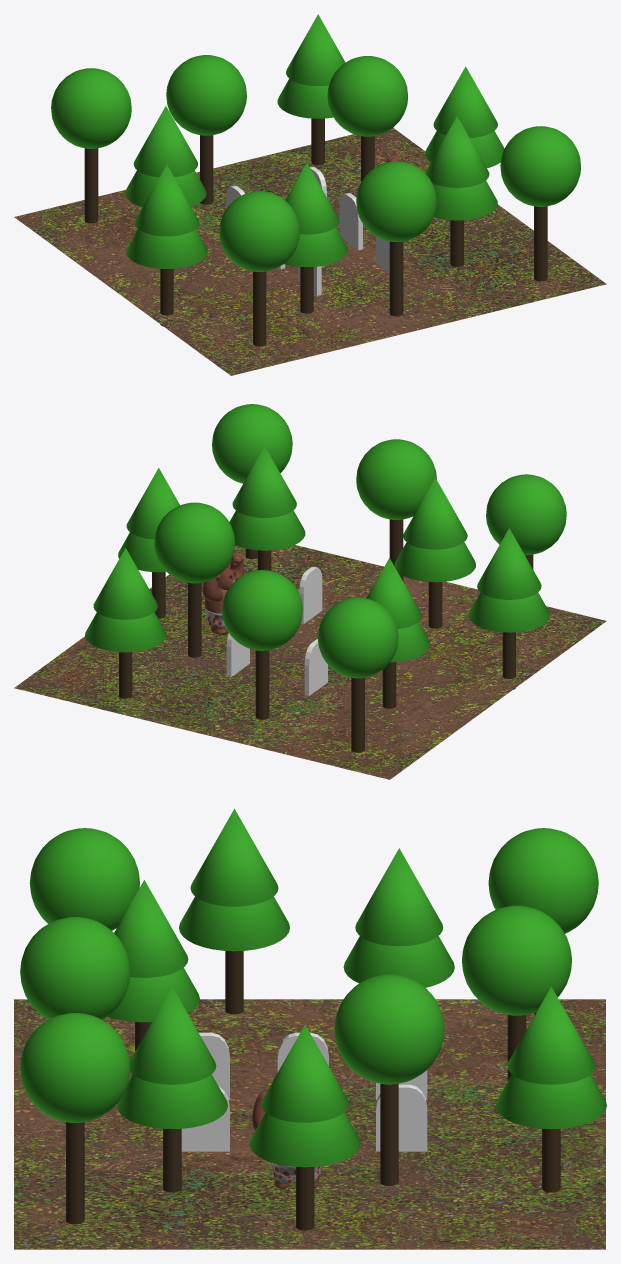
3 views of the same model, one above another, from view 1: azimuth 30°, elevation 25°; view 2: azimuth 150°, elevation 25°; view 3: azimuth 270°, elevation 25° (orthographic). The views are drawn at different scales.
Parts seen in each view (by area): view 1: Plane, Tree2.003, Tree2.004, Tree2.001, Tree2.005, Tree2, Tree1.002, Tree2.002, Tree1, Tree1.004, Tree1.005, Tree1.001 (+2 smaller); view 2: Plane, Tree2.003, Tree2, Tree2.002, Tree1.005, Tree1.002, Tree1.004, Tree2.004, Tree1, Tree2.001, Tree2.005, Tree1.001 (+4 smaller); view 3: Plane, Tree2.005, Tree2.002, Tree1.003, Tree1.004, Tree1.002, Tree1, Tree2, Tree2.004, Tree1.001, Tree2.001, Tree2.003 (+5 smaller).
Boxes of the visible parts, <box> form: Plane: <box>14,128,606,375</box>; Tree2.003: <box>51,68,131,223</box>; Tree2.004: <box>356,161,436,316</box>; Tree2.001: <box>219,191,299,346</box>; Tree2.005: <box>500,126,580,281</box>; Tree2: <box>166,55,246,204</box>; Tree1.002: <box>126,165,207,326</box>; Tree2.002: <box>327,56,407,181</box>; Tree1: <box>425,116,497,266</box>; Tree1.004: <box>277,14,345,165</box>; Tree1.005: <box>284,163,347,313</box>; Tree1.001: <box>125,106,206,206</box>; Plane: <box>14,545,606,779</box>; Tree2.003: <box>318,597,398,752</box>; Tree2: <box>222,570,302,719</box>; Tree2.002: <box>154,502,234,657</box>; Tree1.005: <box>394,478,475,628</box>; Tree1.002: <box>468,528,549,689</box>; Tree1.004: <box>85,548,166,698</box>; Tree2.004: <box>356,439,436,581</box>; Tree1: <box>229,446,305,570</box>; Tree2.001: <box>486,474,566,569</box>; Tree2.005: <box>212,404,292,559</box>; Tree1.001: <box>366,558,430,708</box>; Plane: <box>14,999,605,1249</box>; Tree2.005: <box>20,1012,130,1224</box>; Tree2.002: <box>334,974,444,1185</box>; Tree1.003: <box>249,1024,360,1230</box>; Tree1.004: <box>495,986,606,1192</box>; Tree1.002: <box>179,808,289,1014</box>; Tree1: <box>116,986,227,1192</box>; Tree2: <box>462,905,571,1081</box>; Tree2.004: <box>20,917,130,1019</box>; Tree1.001: <box>343,848,454,987</box>; Tree2.001: <box>29,828,139,930</box>; Tree2.003: <box>488,828,598,1015</box>.
Bounding box in the file's own units: 21.03 × 8.41 × 20.04.
Materials: 11 (7 with a texture image).
